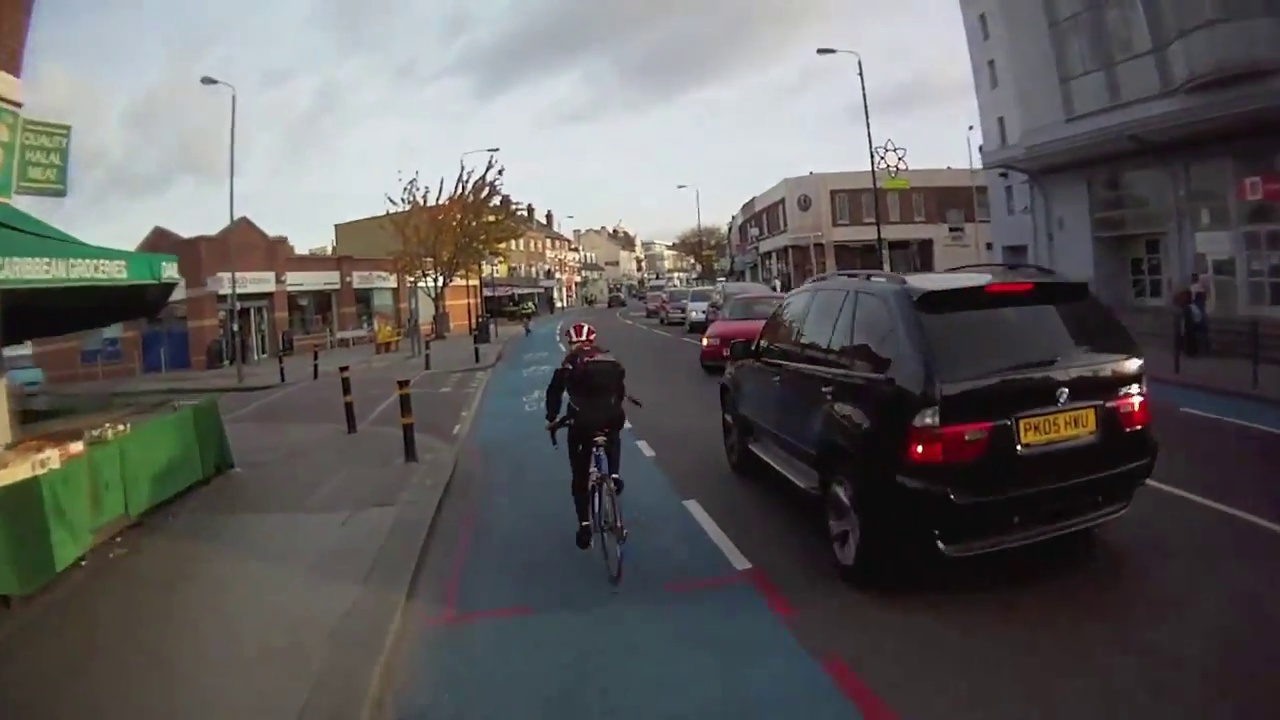cyclist_back: (543, 318, 643, 601)
